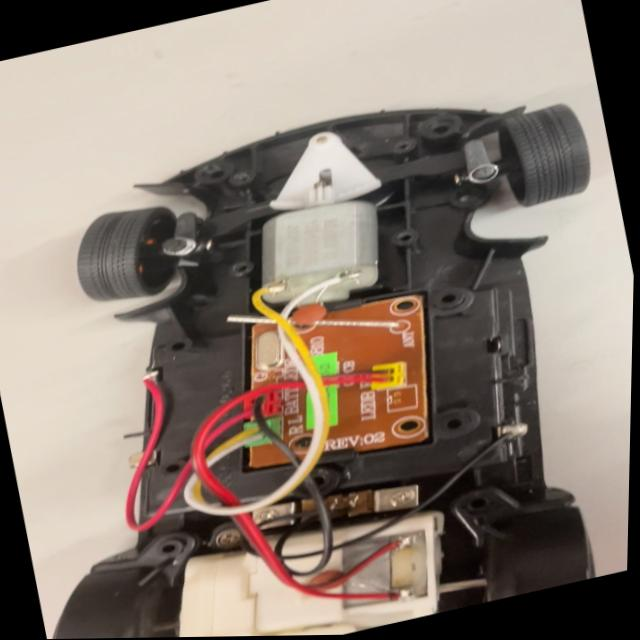motor: (225, 166, 394, 322)
wheel: (461, 89, 608, 223), (49, 181, 188, 313)
